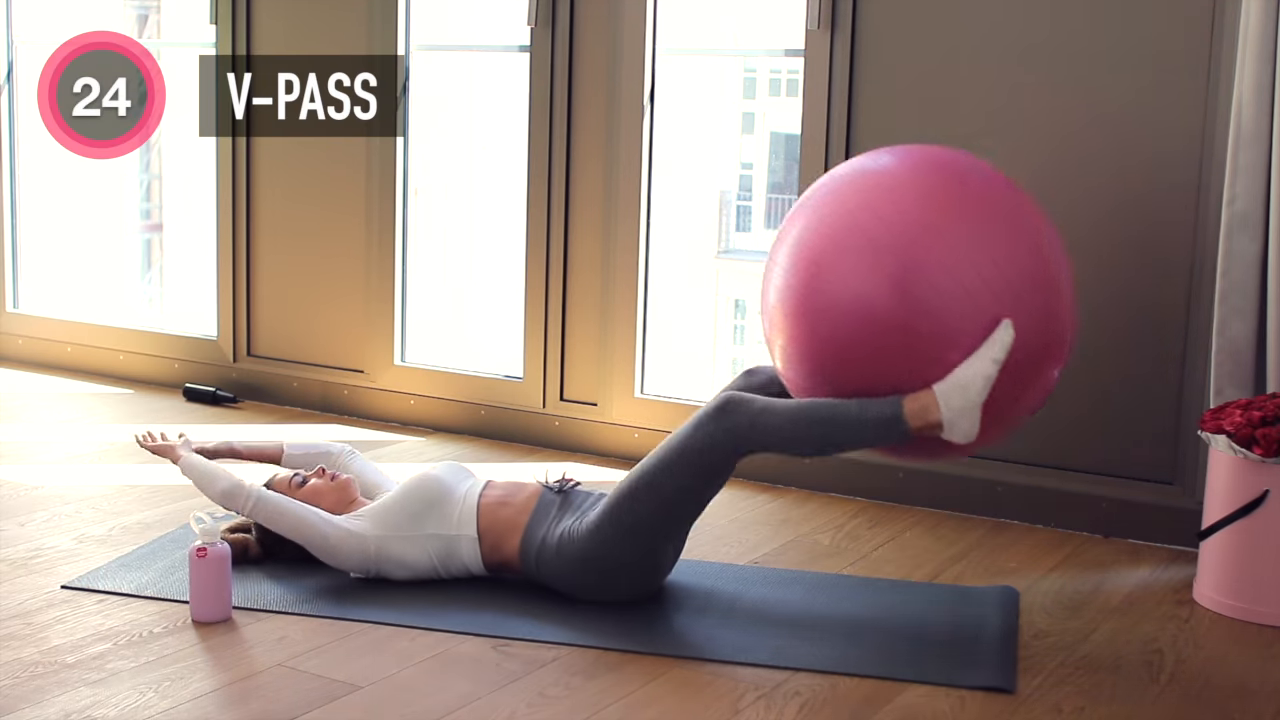yogaball: (758, 140, 1089, 469)
